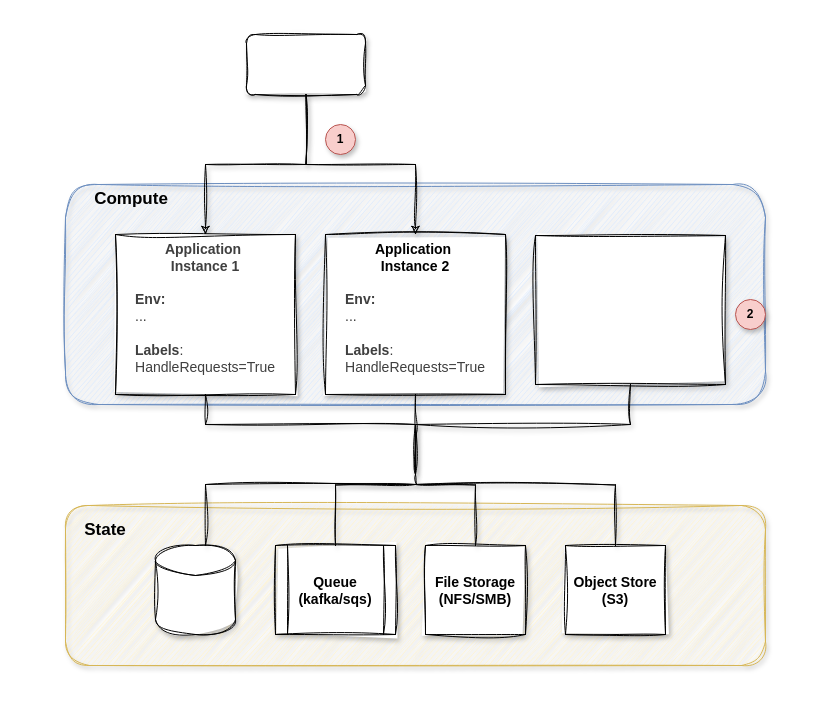
Some shapes in this 824 by 714 pixel diagram are drawn without their labels. Each missing label, with the centre of its shape:
Application Instance 3 Env: MODE=MIGRATE_DB Labels : ...: (x=631, y=311)
Database: (x=196, y=591)
Load Balancer: (x=307, y=66)
